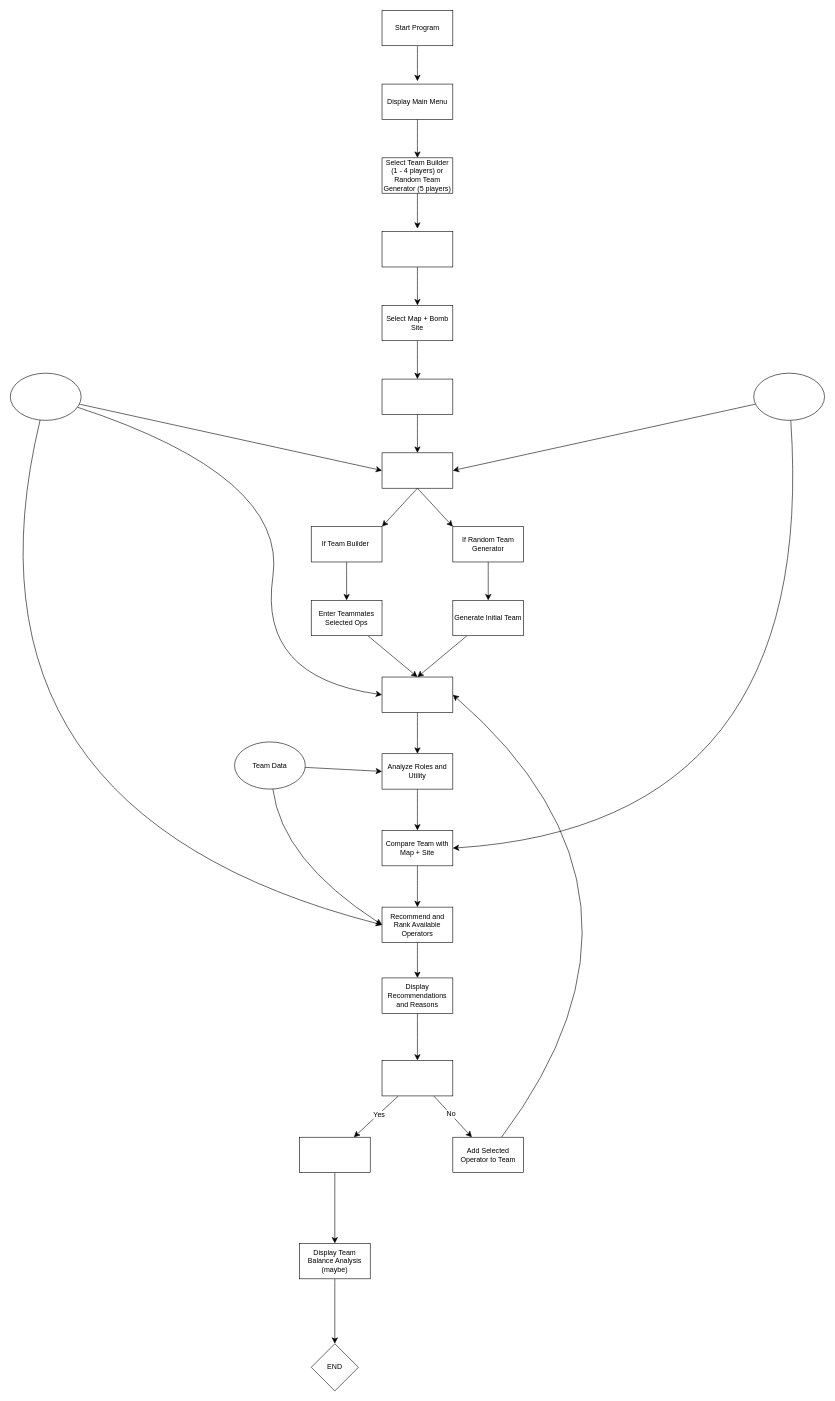
The diagram is 835 pixels wide and 1401 high, and some of its shapes have lost their labels. The centre of each missing label's shape, as x and y in pixels:
"Display Final Five Operator Team" goes at point 334,1155.
"Enter Operator Bans" goes at point 417,396.
"is Team Complete?" goes at point 417,1078.
"Load Ops and Map databases" goes at point 417,470.
"Map + Site Database" goes at point 789,396.
"Operator Database" goes at point 45,396.
"Select Attack or Defend" goes at point 417,249.
"Validate Teams and Bans" goes at point 417,694.
